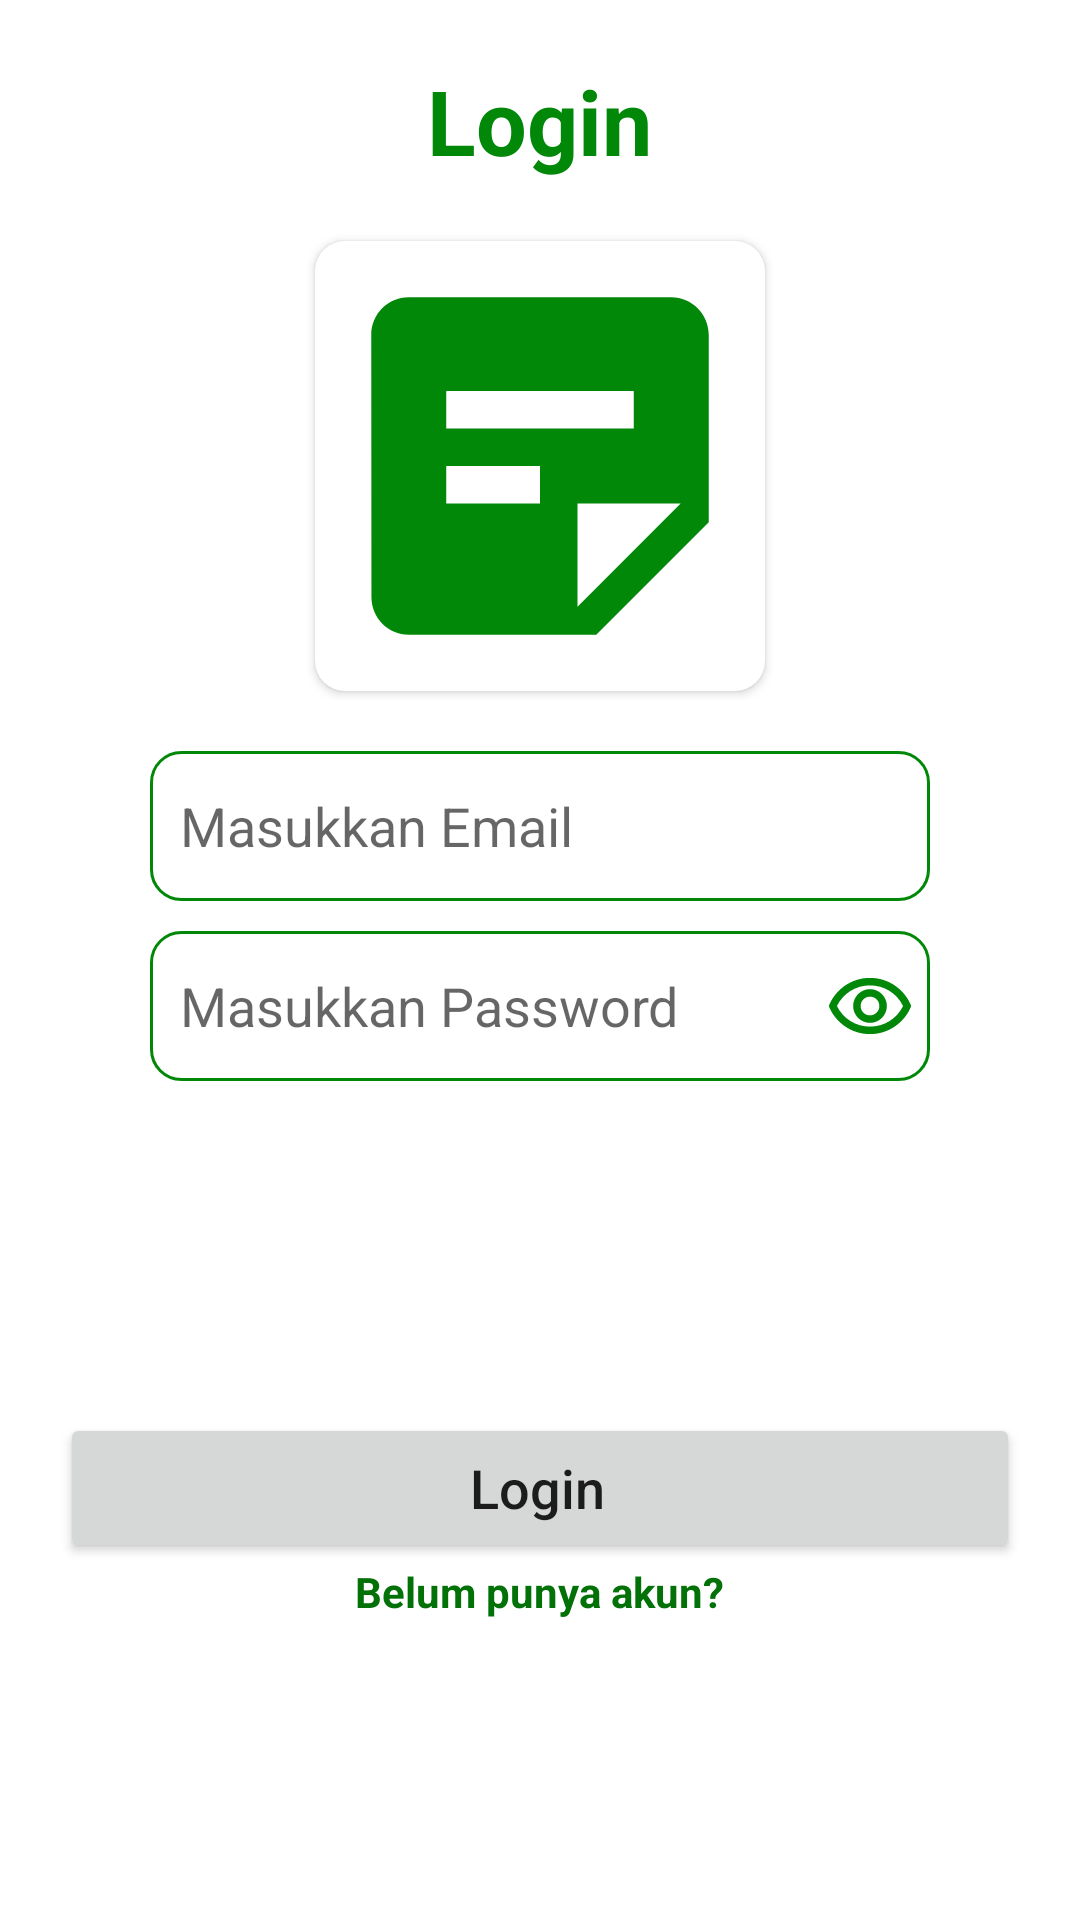

Where to tap for icons on this 1080px x 1920px app screen, as [x,y]:
see password: [870,1006]
